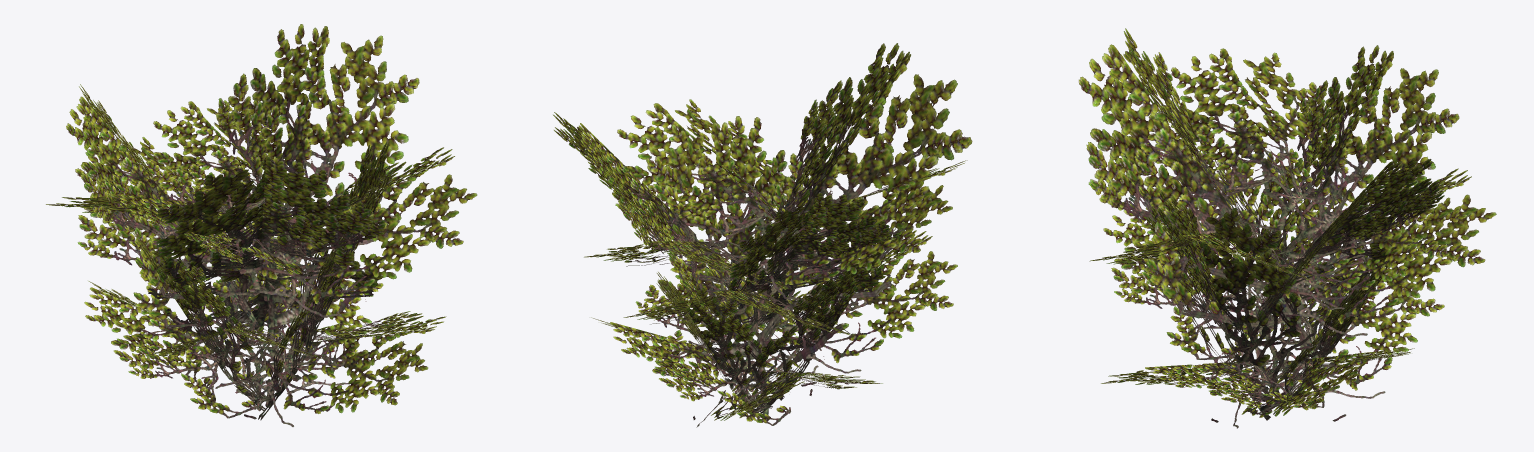
File: arbusto_d.glb
3 renders of one model, left to right at view 1: azimuth 30°, elevation 25°; view 2: azimuth 150°, elevation 25°; view 3: azimuth 270°, elevation 25°, orthographic. The views are drawn at different scales.
Parts seen in each view (by area): view 1: Modelo; view 2: Modelo; view 3: Modelo.
Boxes of the visible parts, <box> form: Modelo: <box>46,24,477,426</box>; Modelo: <box>553,43,972,427</box>; Modelo: <box>1078,28,1496,428</box>.
Bounding box in the file's own units: 5.14 × 3.94 × 5.04.
1 material, 1 textured.
